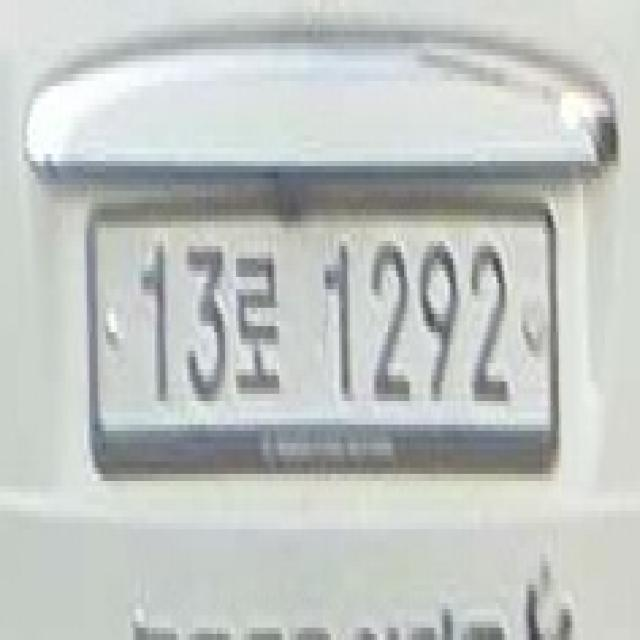1: (136, 228, 182, 412), (314, 240, 360, 418)
2: (361, 228, 415, 430), (464, 234, 518, 431)
3: (184, 233, 230, 424)
9: (415, 234, 461, 418)
license_plate: (76, 185, 572, 504)
lo: (230, 240, 288, 418)
